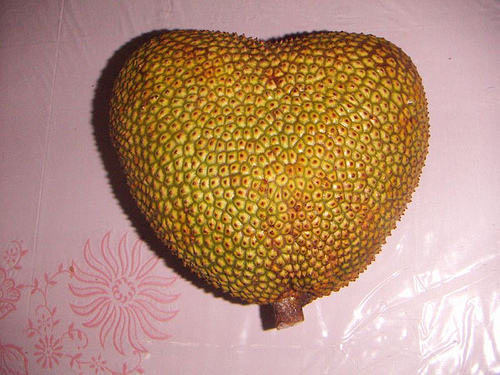jackfruit: (96, 28, 432, 327)
